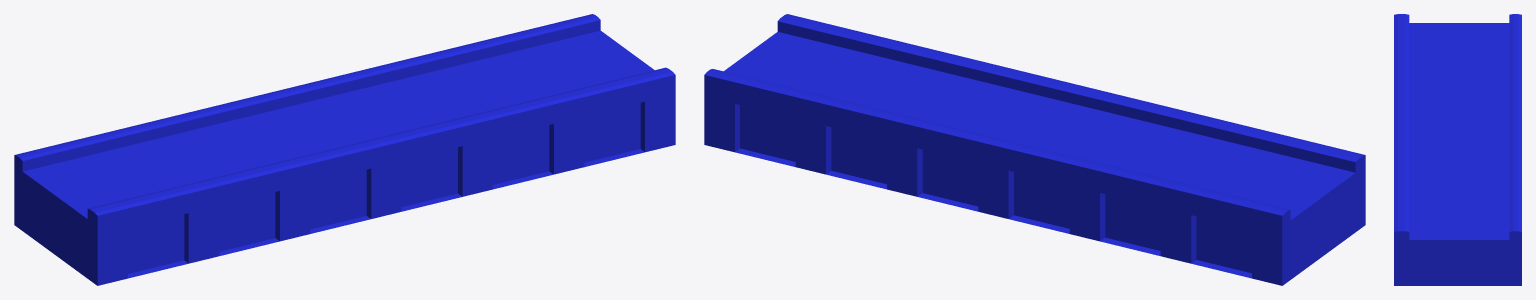
The model's file is ancient_wall_tight_spacing.fbx.
3 views of the same model, side by side, from view 1: azimuth 30°, elevation 25°; view 2: azimuth 150°, elevation 25°; view 3: azimuth 270°, elevation 25° (orthographic). The views are drawn at different scales.
Visible parts, largest first — view 1: Cube; view 2: Cube; view 3: Cube.
Part boxes in pixels (x1,y1,x2,y2): Cube: (14, 14, 675, 285); Cube: (704, 14, 1365, 285); Cube: (1394, 14, 1521, 285).
Size of what is drawn, in the model's own units: 5220 by 614 by 1300.
